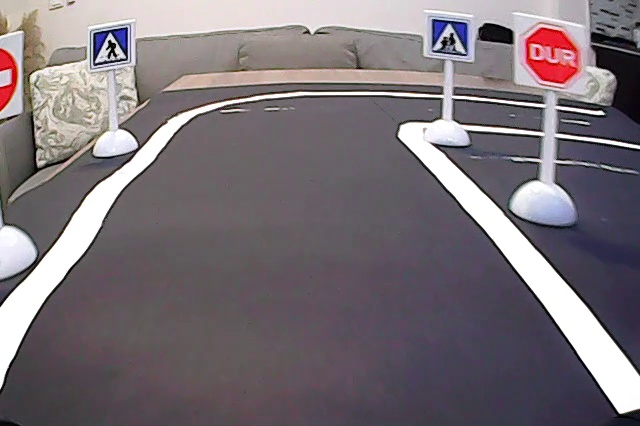pedestrian crossing: (91, 26, 134, 66)
school crossing: (429, 14, 470, 58)
stop sign: (518, 21, 584, 91)
